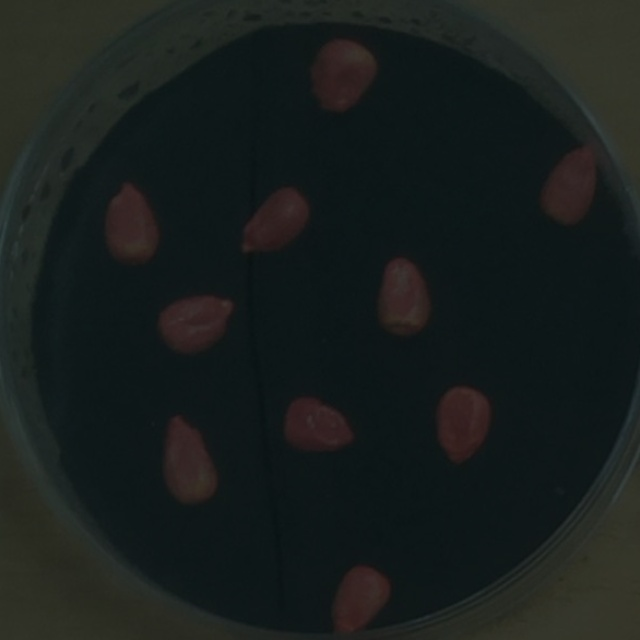Zea mays: (302, 30, 386, 121), (154, 409, 226, 514), (148, 287, 242, 364), (530, 135, 603, 233), (232, 180, 317, 264), (96, 175, 167, 274), (368, 250, 440, 346), (428, 380, 499, 473), (275, 389, 361, 461), (323, 559, 398, 639)
